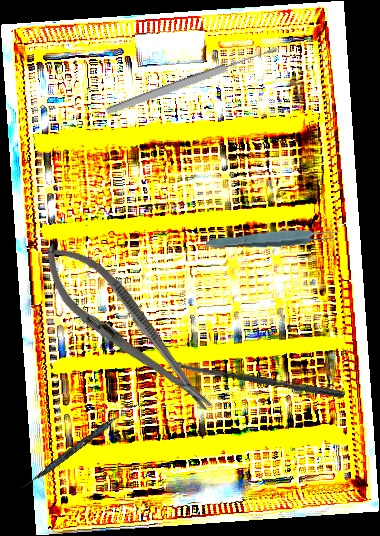Needle Holder: (27, 228, 228, 429)
Spatula Surgical: (20, 399, 138, 493)
Surgical Spoon: (104, 44, 280, 117), (169, 359, 346, 399)
Tissue Forceps: (205, 226, 342, 253)
